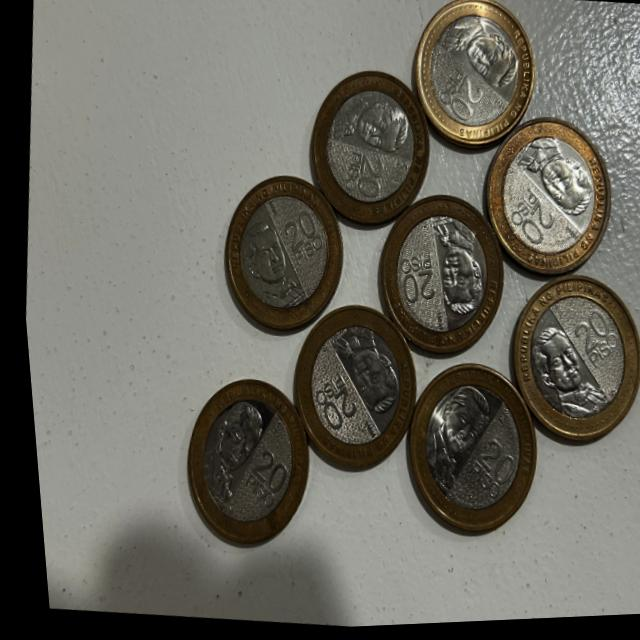20_New_Front: (443, 423, 522, 516), (225, 448, 289, 539), (558, 299, 619, 384), (498, 187, 564, 260), (389, 247, 437, 323), (433, 71, 486, 139), (304, 378, 361, 440), (343, 150, 394, 207), (276, 209, 318, 265)
